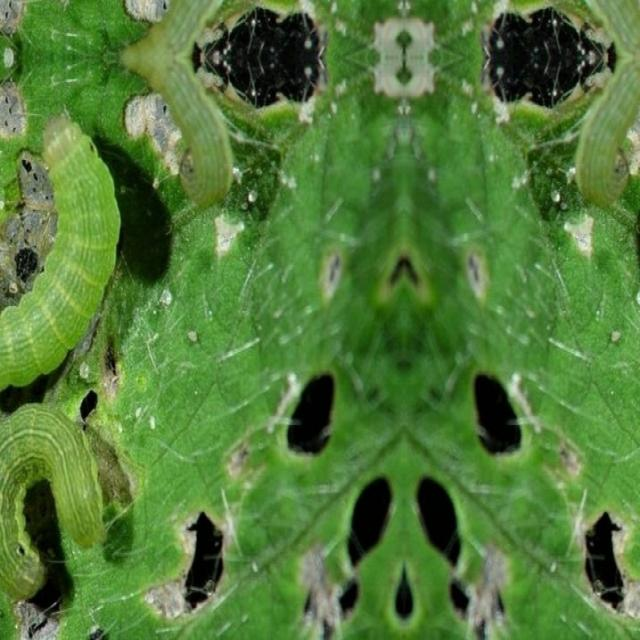armyworm: (0, 110, 121, 398), (0, 399, 112, 598)
